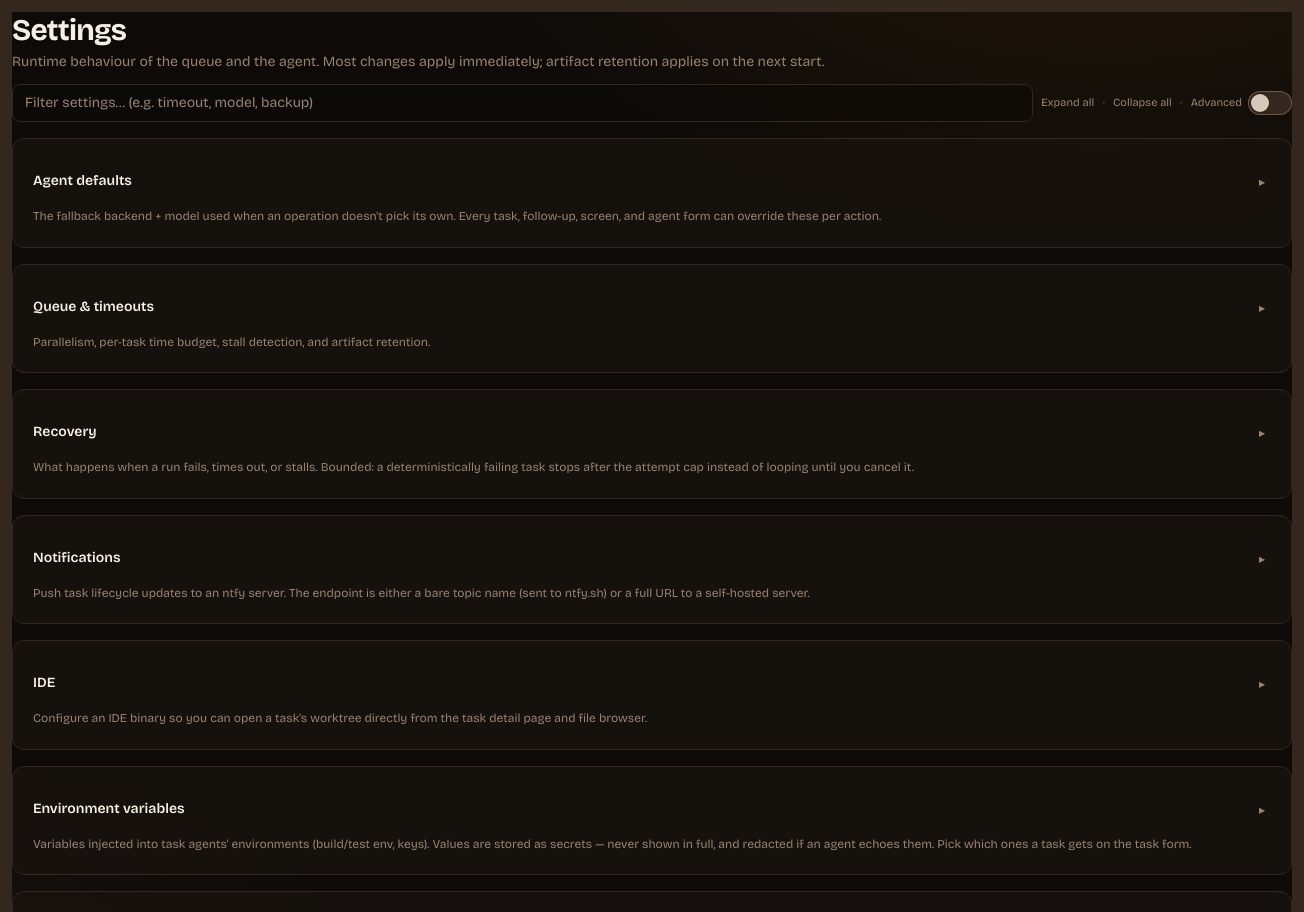
Test: Settings › shows the Notifications section with ntfy endpoint and test button
The width and height of the screenshot is (1304, 912).
Check: the field labelled "Filter settings" is shown, box [12,84,1033,122]
Click the button "Notifications ▸".
click(77, 557)  # box [33,536,1271,580]
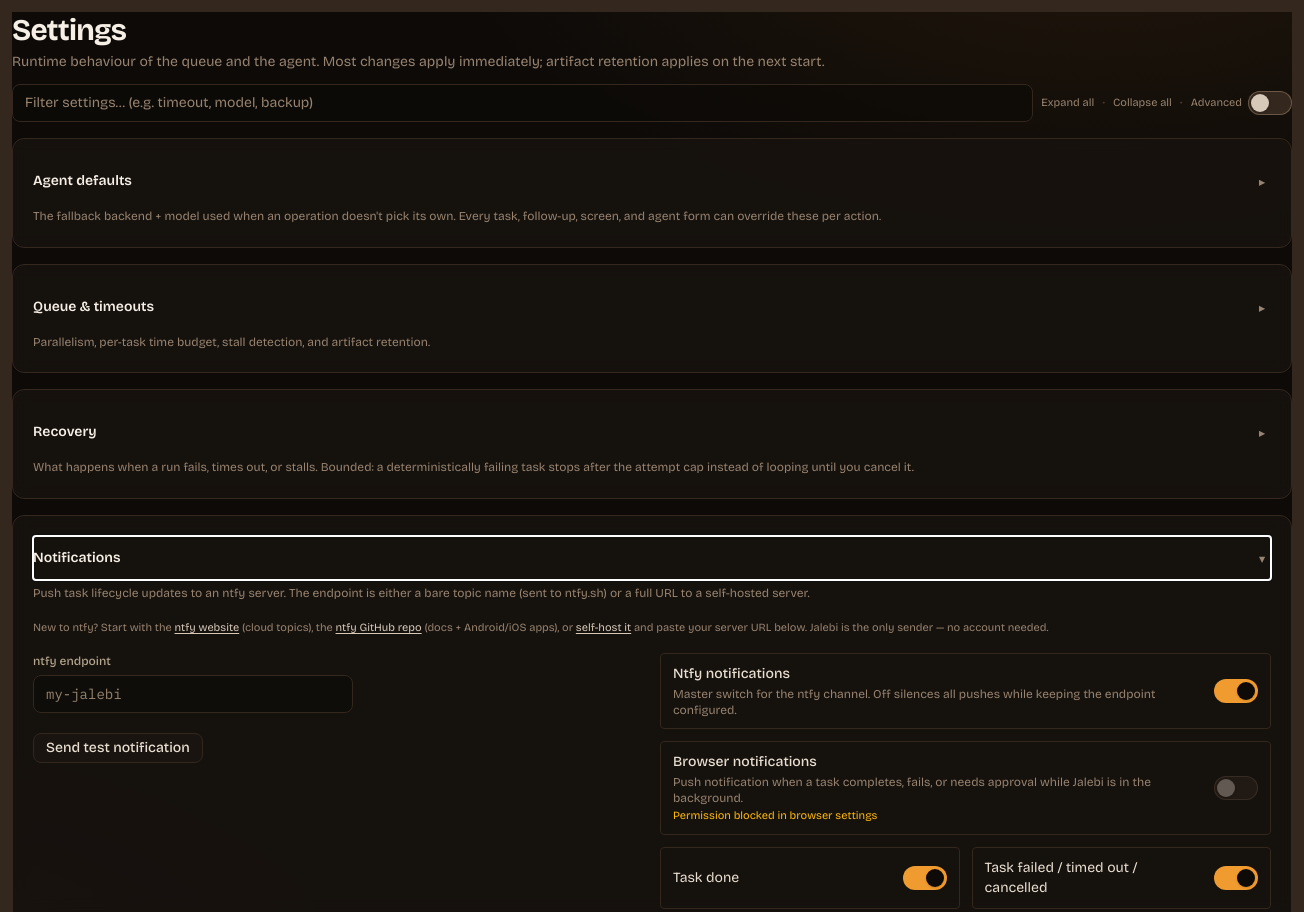
Check: the heading "Notifications" is shown, box [33,548,120,568]
Check: the field with placeholder "my-jalebi" is shown, box [33,675,353,713]
Click the button "Send test notification".
click(118, 748)  # box [33,733,203,763]
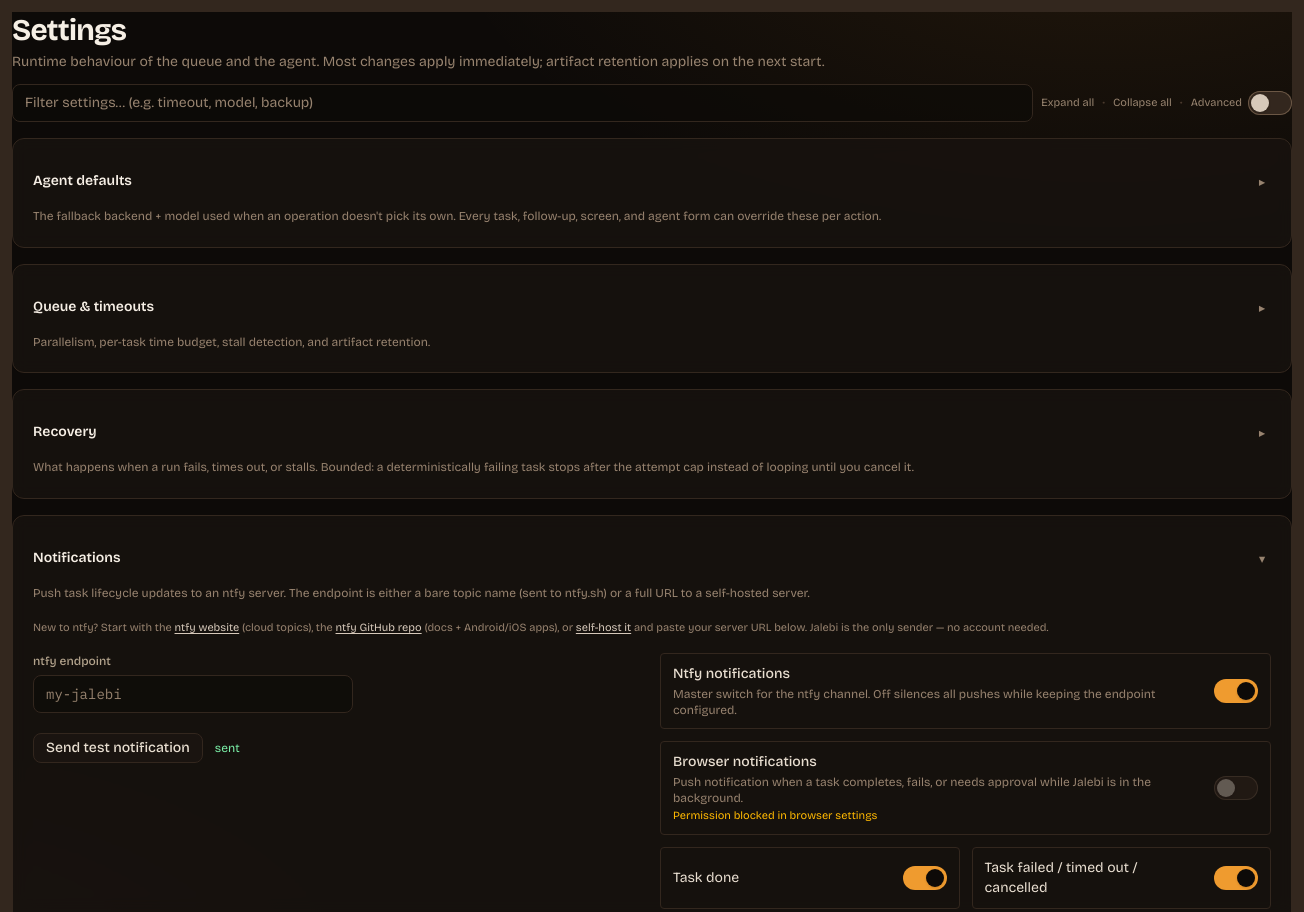
Check: the text "sent" is shown, box [215,740,240,756]
